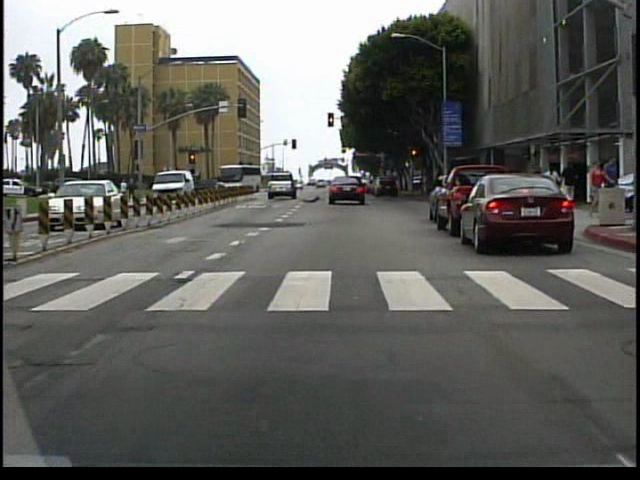person: (583, 159, 604, 222), (561, 159, 578, 205), (599, 156, 615, 192), (128, 177, 141, 195)
